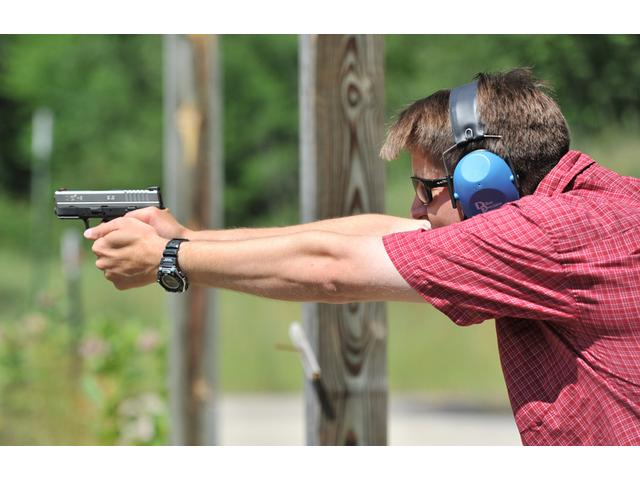pistol: (50, 187, 169, 289)
